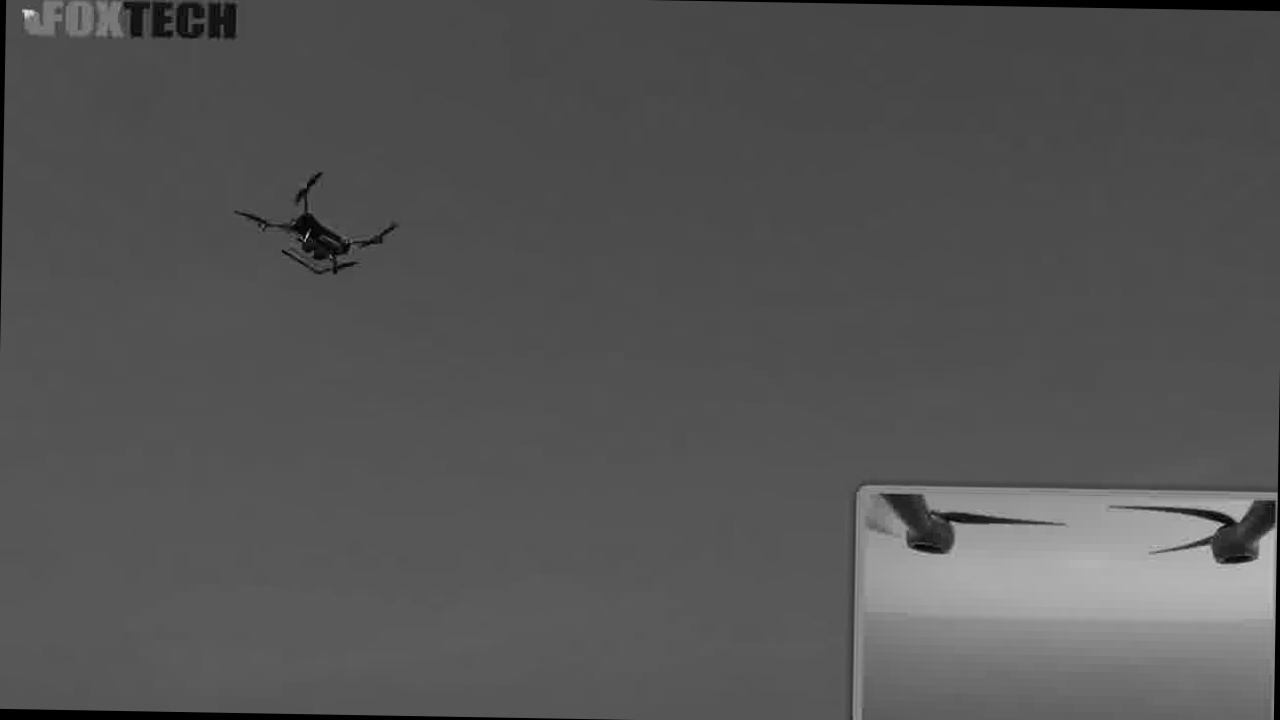drone: (236, 154, 417, 293)
